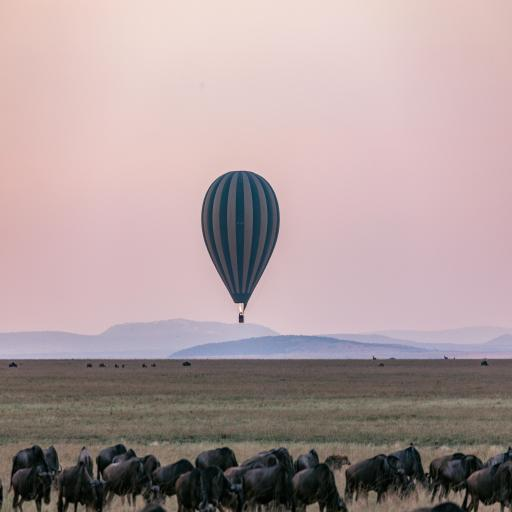hot air ballon: (199, 170, 280, 323)
